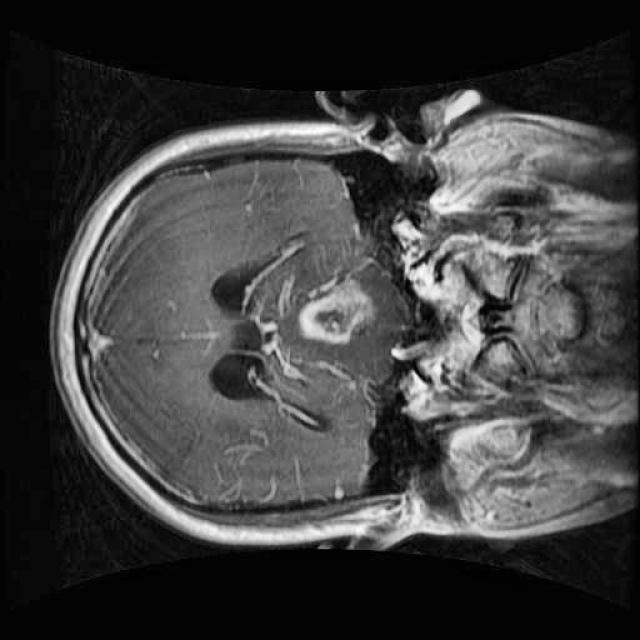Tumor: (288, 260, 382, 359)
